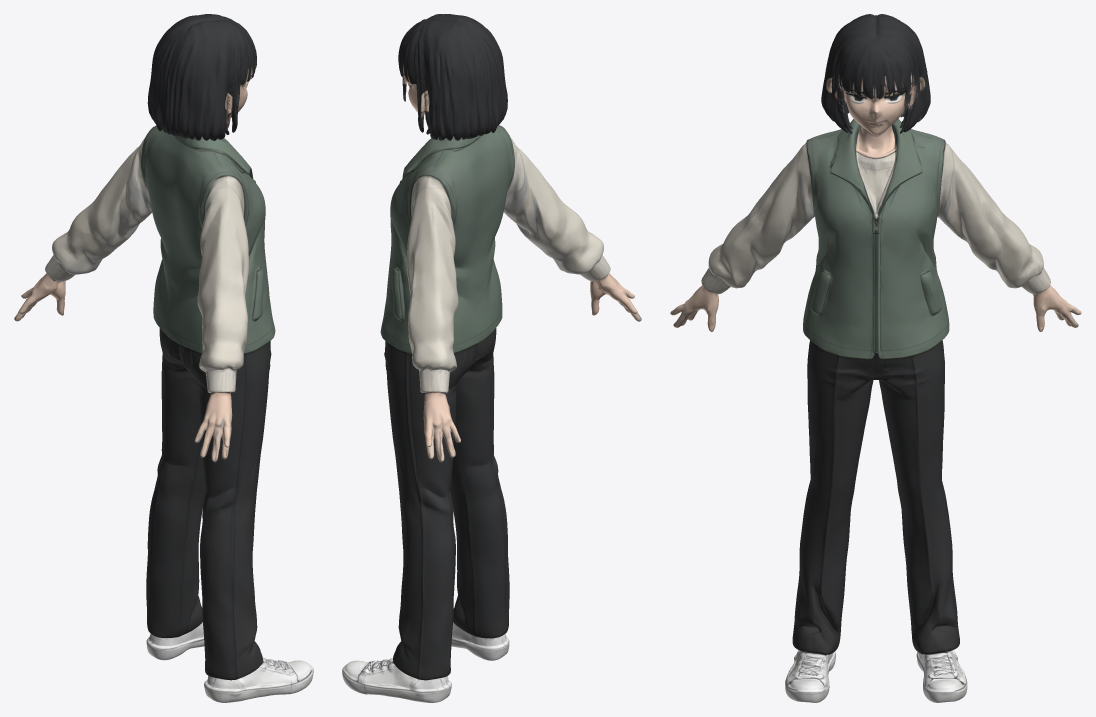
Rendered from nari_tripo.glb.
3 views of the same model, side by side, from view 1: azimuth 30°, elevation 25°; view 2: azimuth 150°, elevation 25°; view 3: azimuth 270°, elevation 25° (orthographic).
Visible parts, largest first — view 1: tripo_node_dd5b505d-c52a-4900-a877-1c894596d1ef; view 2: tripo_node_dd5b505d-c52a-4900-a877-1c894596d1ef; view 3: tripo_node_dd5b505d-c52a-4900-a877-1c894596d1ef.
Boxes of the visible parts, x1=… form: tripo_node_dd5b505d-c52a-4900-a877-1c894596d1ef: x1=14, y1=14, x2=313, y2=702; tripo_node_dd5b505d-c52a-4900-a877-1c894596d1ef: x1=342, y1=14, x2=641, y2=702; tripo_node_dd5b505d-c52a-4900-a877-1c894596d1ef: x1=670, y1=14, x2=1081, y2=702.
Size of the model in its own units: 0.2715 by 1 by 0.5704.
1 material, 1 textured.
